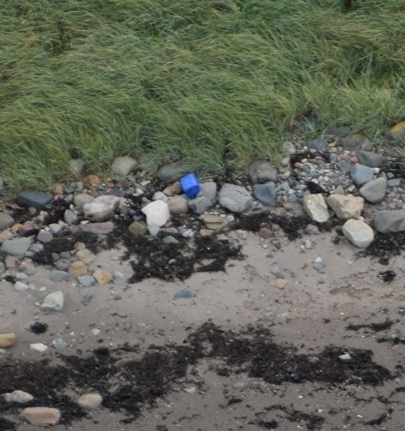white_in_green: (157, 153, 226, 214)
